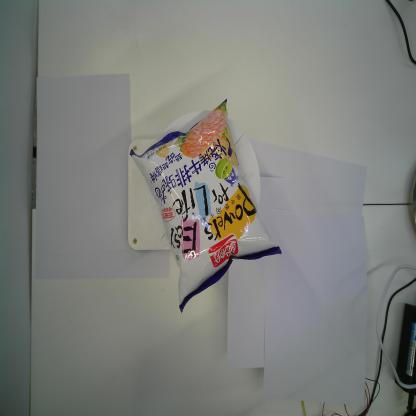Puffed Food: (128, 98, 284, 314)
